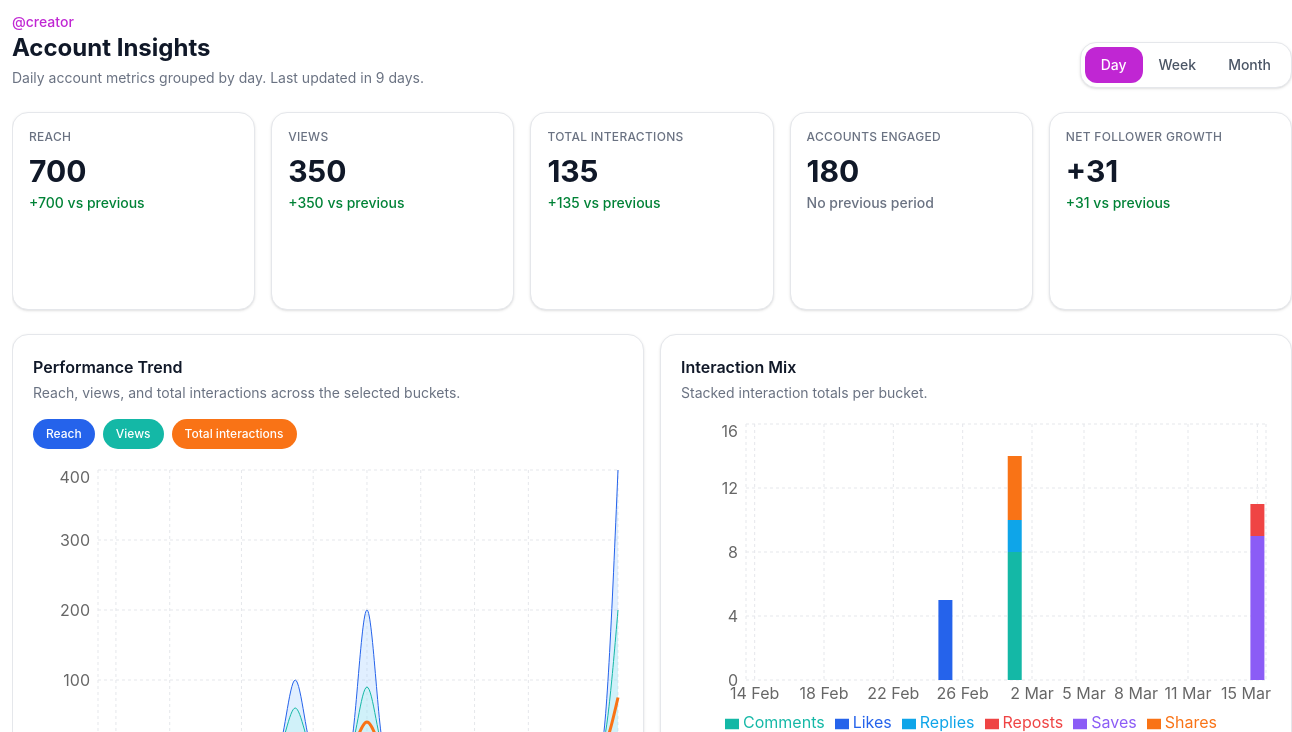
Test case: InsightsPage › switches totals when the granularity changes
Expected: the element named "Reach KPI" shows "700", [29,153,86,189]
Click the button "Month".
click(1250, 65)  # box [1212,47,1287,83]
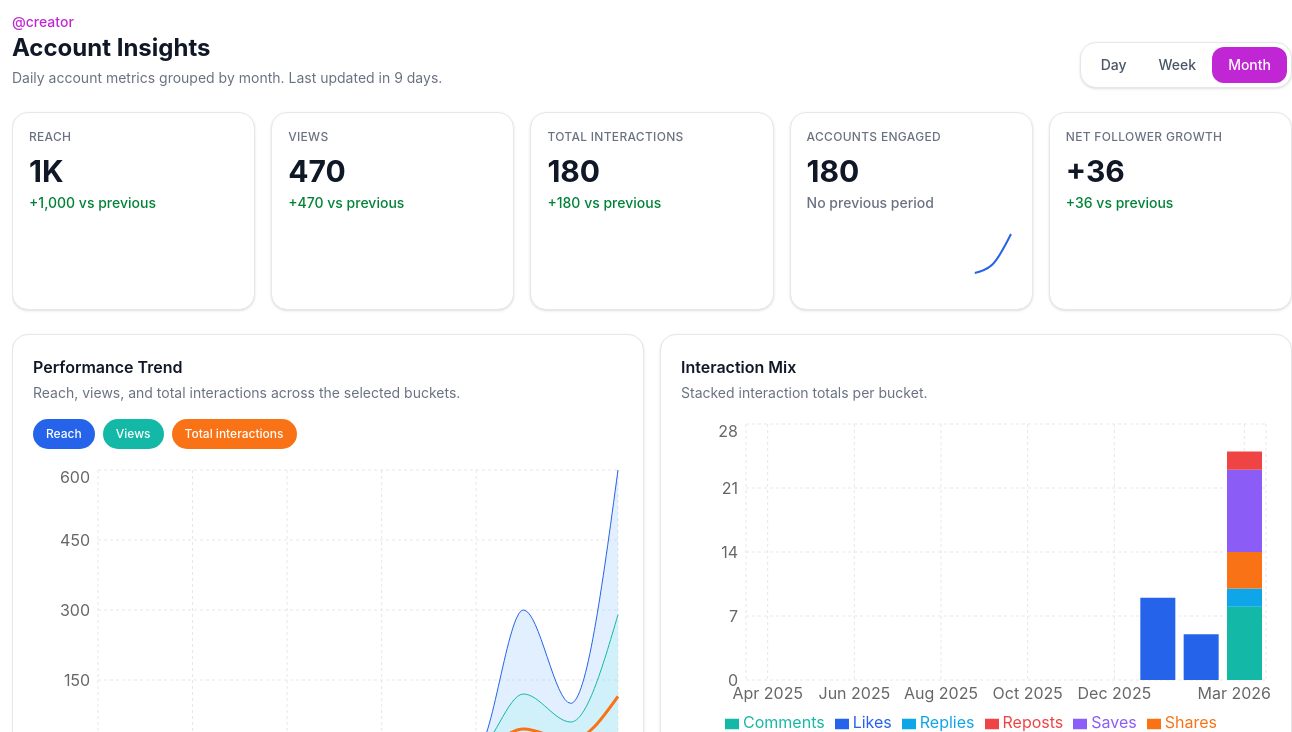
Now the element named "Reach KPI" shows "1K", box [29,153,64,189]
